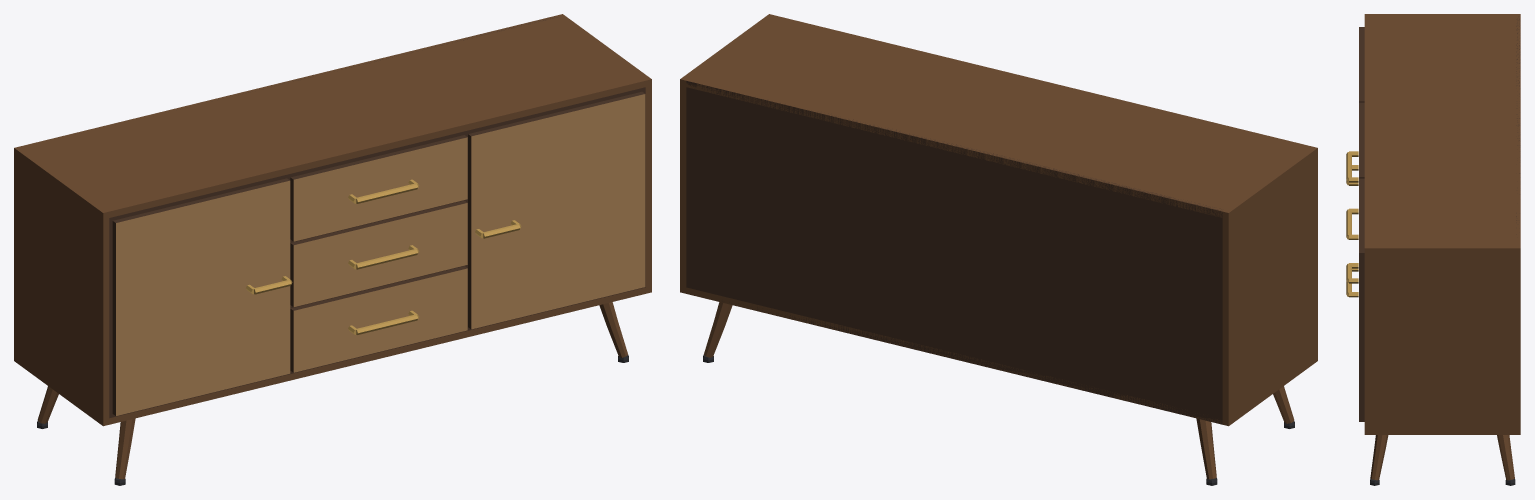
File: FN_Sideboard.glb
3 views of the same model, side by side, from view 1: azimuth 30°, elevation 25°; view 2: azimuth 150°, elevation 25°; view 3: azimuth 270°, elevation 25° (orthographic). The views are drawn at different scales.
Visible parts, largest first — view 1: FN_Sideboard; view 2: FN_Sideboard; view 3: FN_Sideboard.
Part boxes in pixels (x1=…): FN_Sideboard: x1=14, y1=14, x2=651, y2=485; FN_Sideboard: x1=680, y1=14, x2=1317, y2=485; FN_Sideboard: x1=1346, y1=14, x2=1520, y2=485.
Bounding box in the file's own units: 1.6 × 0.78 × 0.503.
Materials: 1 (1 with a texture image).
